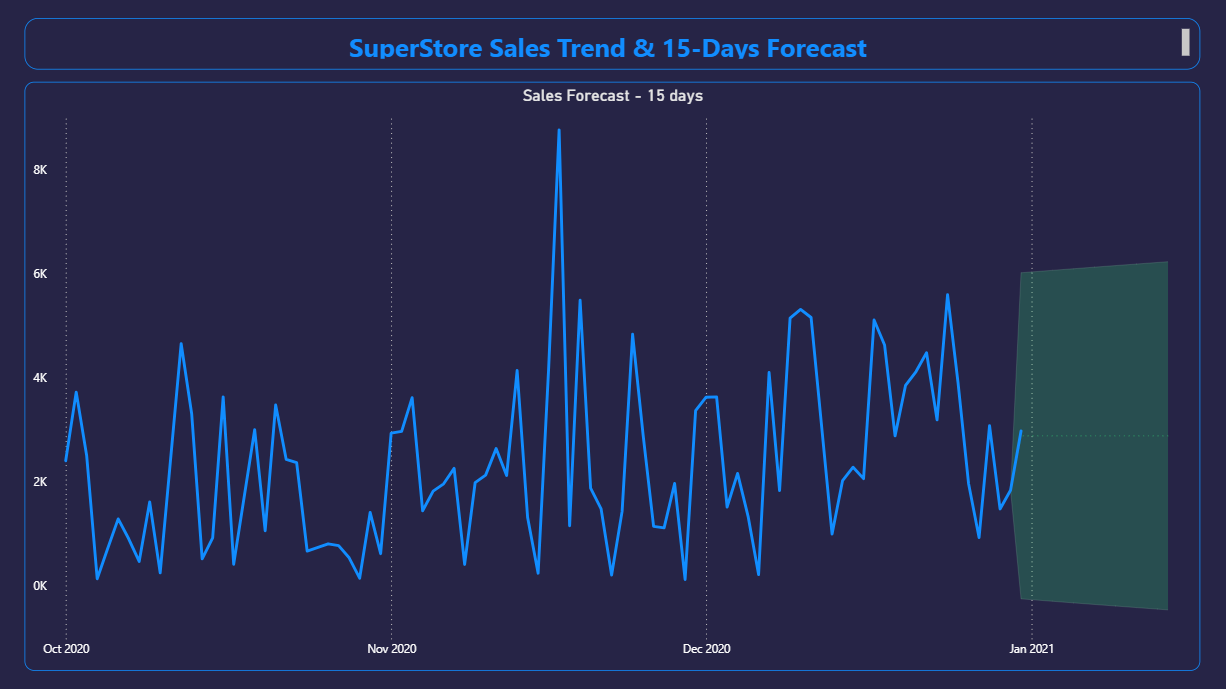

The dashboard page shown, as its layout file describes it:
{"tool":"powerbi","page":{"name":"Sales Forecast","canvas":[1280,720],"ordinal":1},"visuals":[{"type":"lineChart","title":"Sales Forecast - 15 days","fields":{"Y":["Sum(SuperStore_Sales_Dataset.Sales)"],"Category":["SuperStore_Sales_Dataset.Order Date"]},"box":[28.8,86.4,1221.3,612],"z":0},{"type":"textbox","box":[28.8,20.6,1221.3,53.5],"z":3000}]}

Visuals, with their boxes in screenshot pixels (x1, y1, x2, y2), scaled from the page's 1280x720 canvas onto the 1226x689 screenshot:
"Sales Forecast - 15 days" lineChart: (left=28, top=83, right=1197, bottom=668)
textbox: (left=28, top=20, right=1197, bottom=71)
